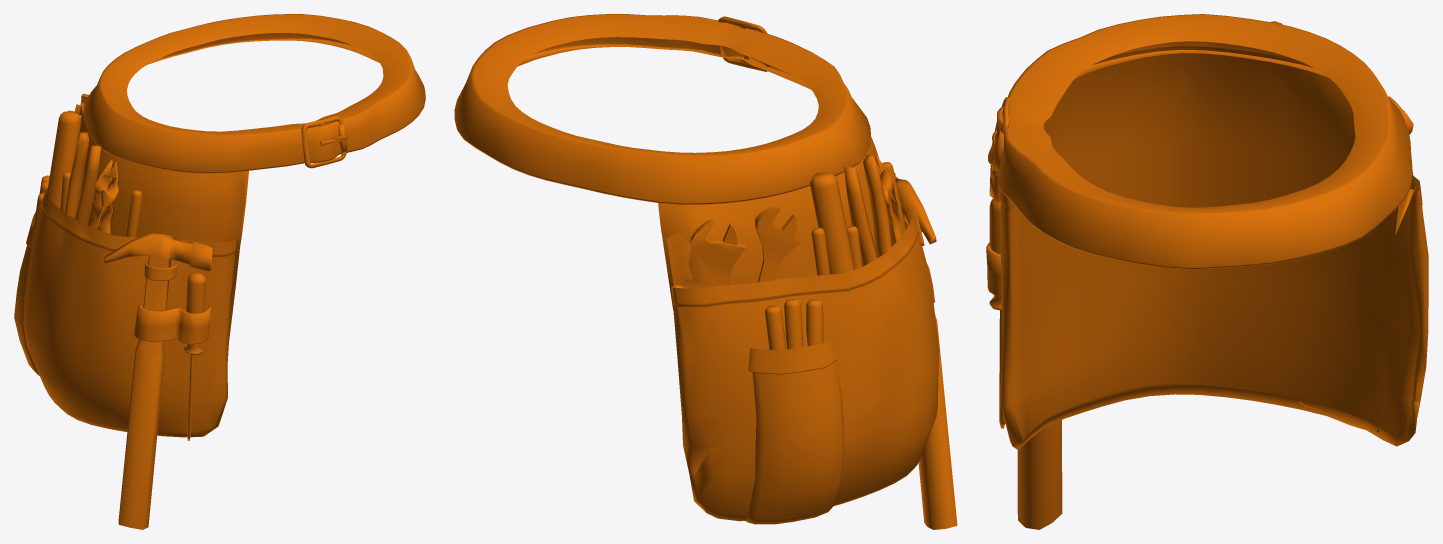
File: coldrefem4.glb
3 views of the same model, side by side, from view 1: azimuth 30°, elevation 25°; view 2: azimuth 150°, elevation 25°; view 3: azimuth 270°, elevation 25° (orthographic). The views are drawn at different scales.
Visible parts, largest first — view 1: hash_06463091.model; view 2: hash_06463091.model; view 3: hash_06463091.model.
Part boxes in pixels (x1,y1,x2,y2): hash_06463091.model: (14, 14, 425, 529); hash_06463091.model: (454, 14, 957, 529); hash_06463091.model: (986, 14, 1428, 529).
Size of the model in its own units: 0.4513 by 0.4352 by 0.324.
